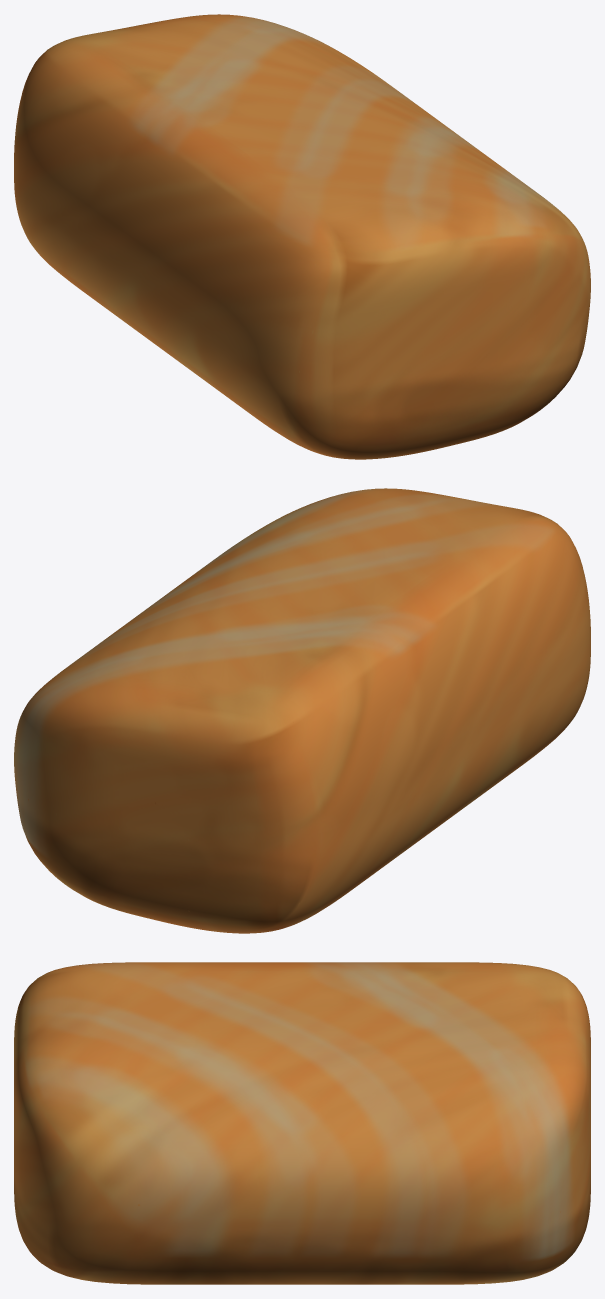
The model's file is SM_SalmonBake.fbx.
The picture shows the model from 3 angles, top to bottom: view 1: azimuth 30°, elevation 25°; view 2: azimuth 150°, elevation 25°; view 3: azimuth 270°, elevation 25°; orthographic projection. The views are drawn at different scales.
Visible parts, largest first — view 1: SM_SalmonBake; view 2: SM_SalmonBake; view 3: SM_SalmonBake.
Part boxes in pixels (box(x1,y1,x2,y2)): SM_SalmonBake: box(14, 14, 590, 459); SM_SalmonBake: box(14, 488, 590, 933); SM_SalmonBake: box(14, 962, 590, 1284).
Size of the model in its own units: 27.35 by 18.78 by 42.41.
